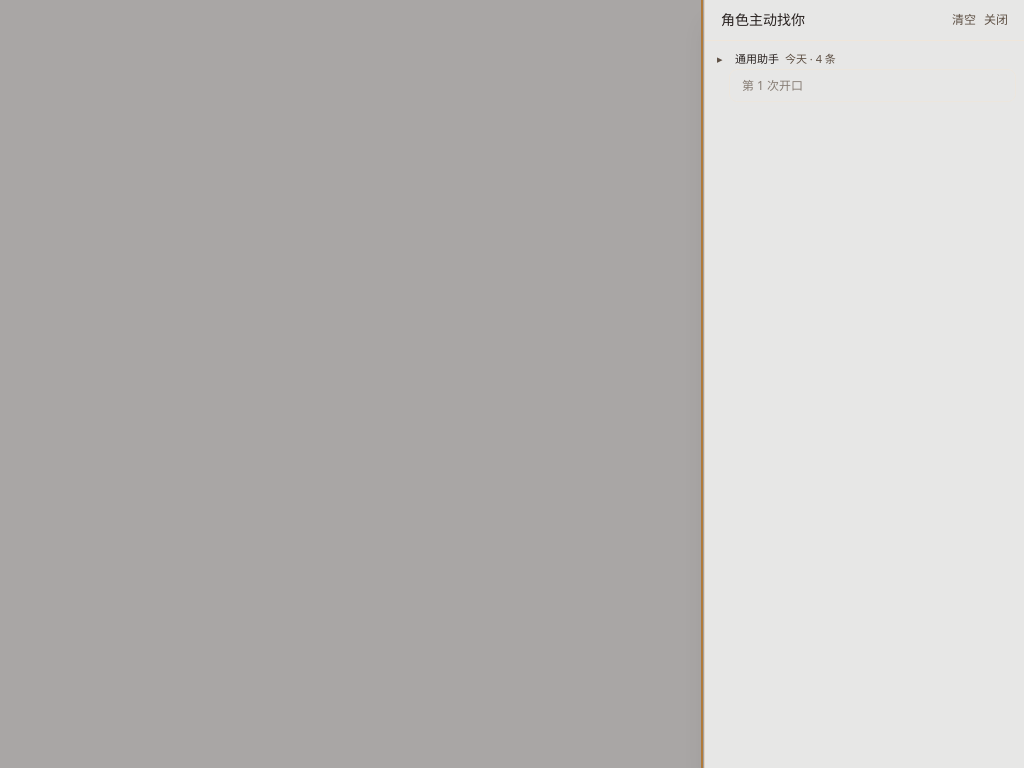
Scenario: 收件箱折叠（角色 × 时间桶） › 展开看每一条，再点收起
Step 1. Click the button "▸ 通用助手 今天 · 4 条" → (757, 58), box [713,49,1016,69]
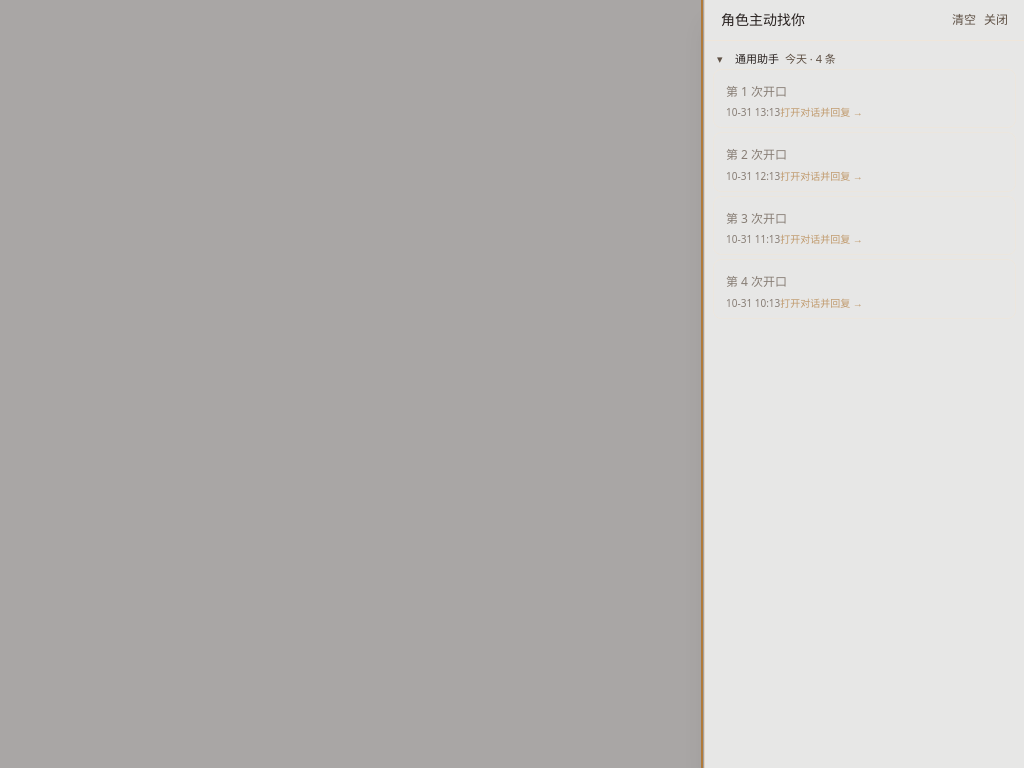
Now the text "第 4 次开口" is shown, box [726,272,787,292]
Step 2. Click the button "▾ 通用助手 今天 · 4 条" → (757, 58), box [713,49,1016,69]
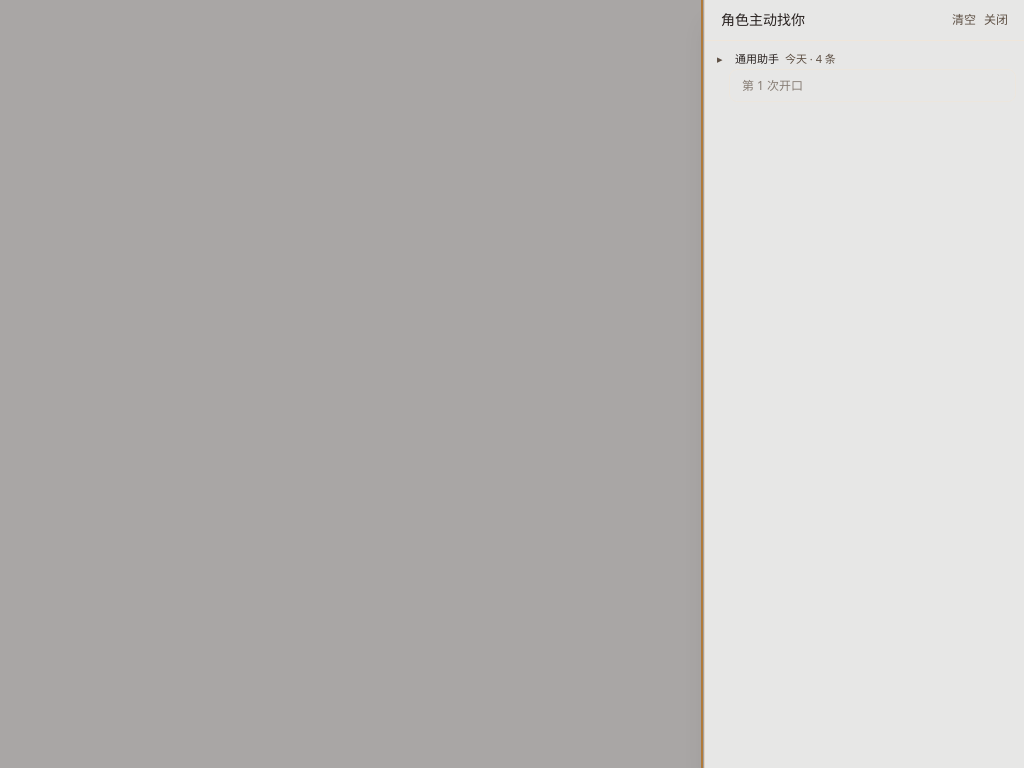
Now the button "第 4 次开口" is gone
